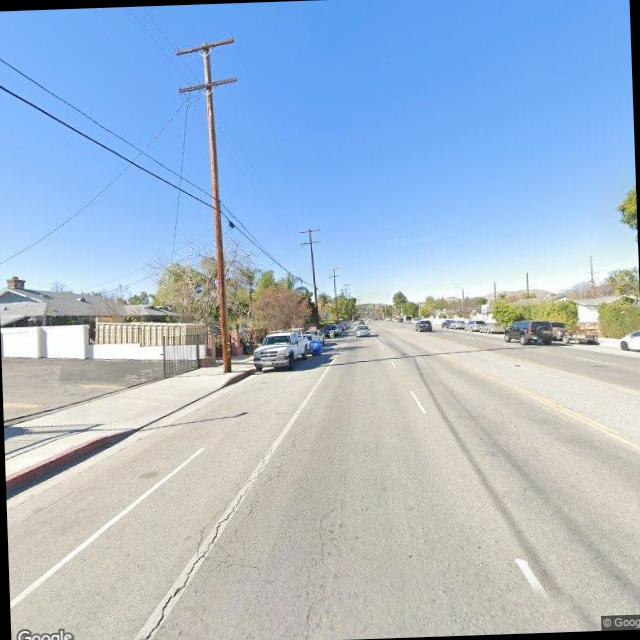pothole: (137, 474, 264, 640), (291, 496, 344, 638)
